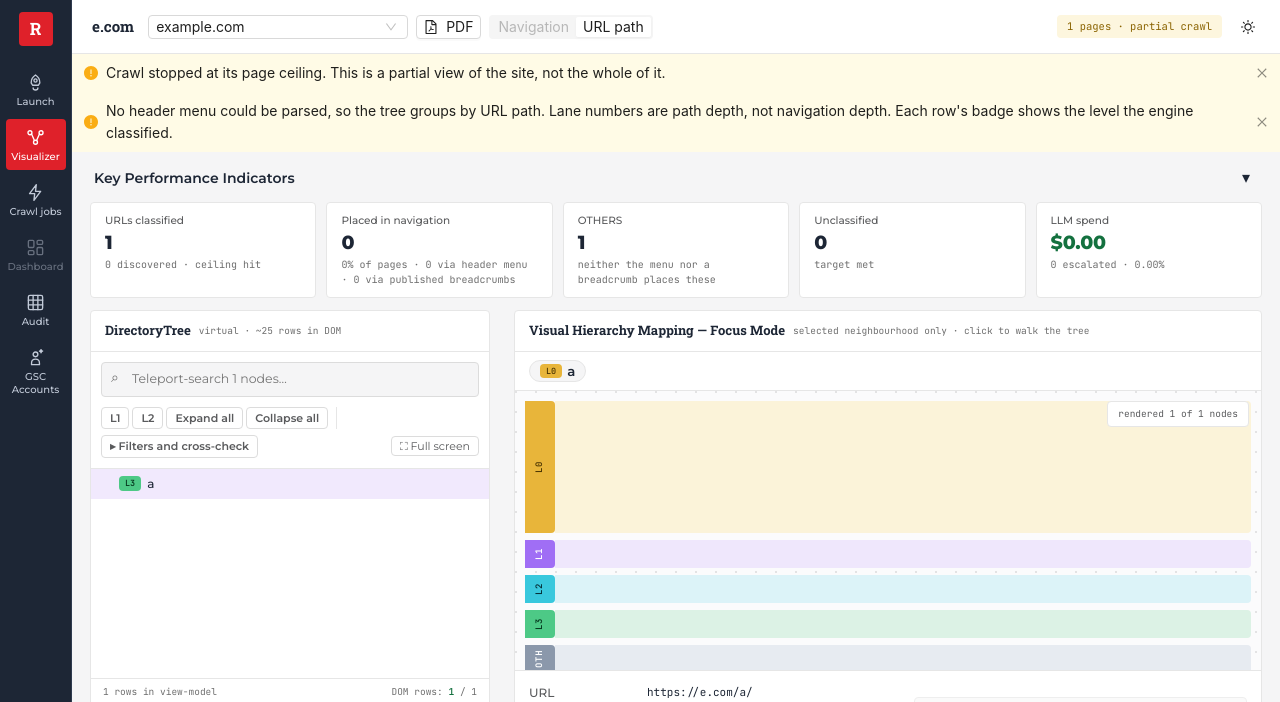
DashboardShell — dismissing the safety banners › closes the partial-crawl warning against the crawl it describes
Check: the text "partial view of the site, not the whole of it" is shown, box top-left (106, 64), bottom-right (666, 81)
Step 1. Click the button named "Dismiss the partial crawl notice" → (1262, 73), box top-left (1256, 67), bottom-right (1268, 79)
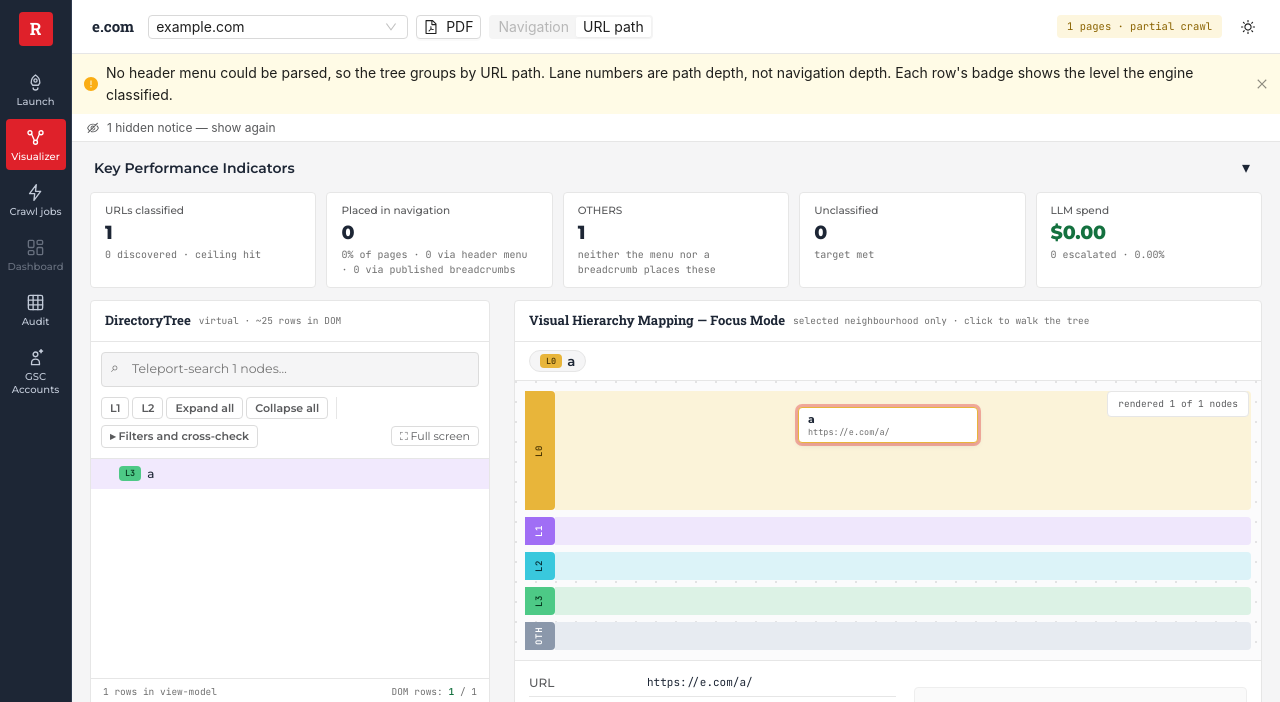
Check: the text "partial view of the site, not the whole of it" is gone
Check: the button "1 hidden notice — show again" is shown, box top-left (80, 116), bottom-right (283, 139)
